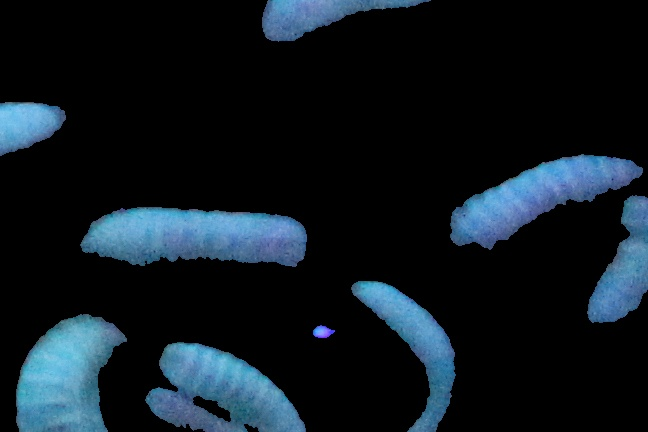larvae: (441, 155, 643, 257), (346, 276, 474, 432), (74, 199, 316, 273), (153, 331, 306, 432), (11, 315, 128, 432), (580, 186, 648, 334), (256, 1, 448, 53), (1, 88, 75, 172), (137, 379, 243, 432)
